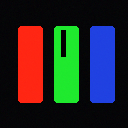4 line_v: (61, 30, 65, 56)
